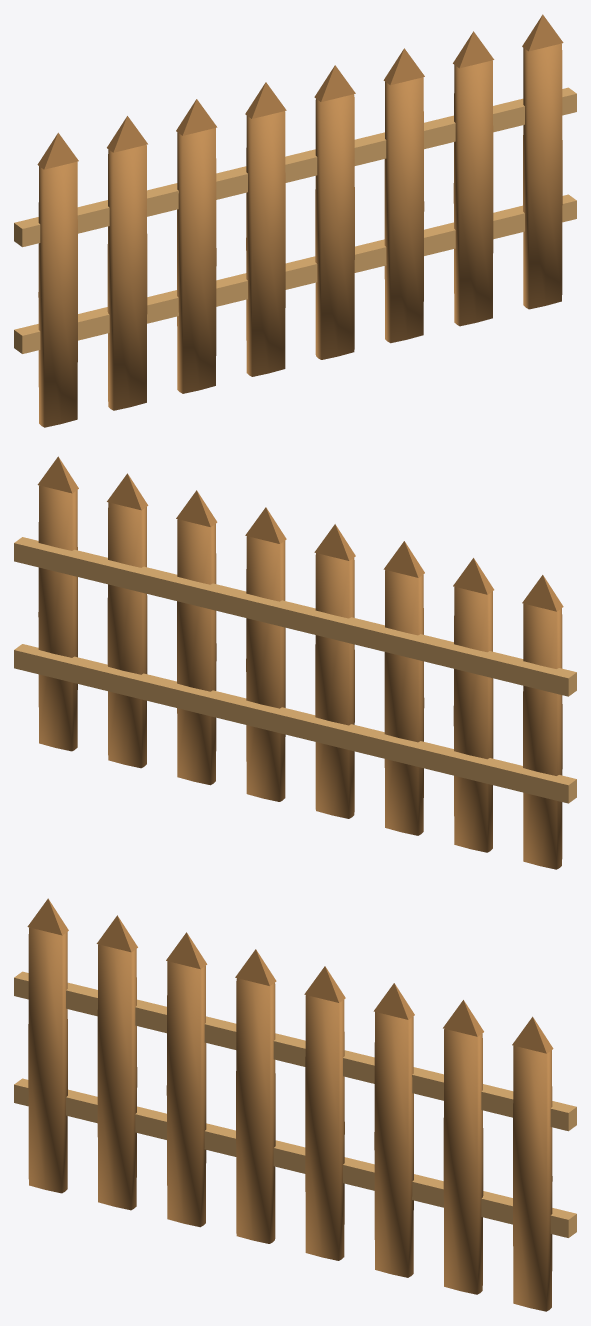
Rendered from fence_wood.glb.
3 views of the same model, one above another, from view 1: azimuth 30°, elevation 25°; view 2: azimuth 150°, elevation 25°; view 3: azimuth 330°, elevation 25° (orthographic).
Parts seen in each view (by area): view 1: root; view 2: root; view 3: root.
Part boxes in pixels (<box>): root: <box>14,14,576,427</box>; root: <box>14,456,576,869</box>; root: <box>14,898,576,1311</box>.
Size of the model in its own units: 1.9 by 0.95 by 0.075.
